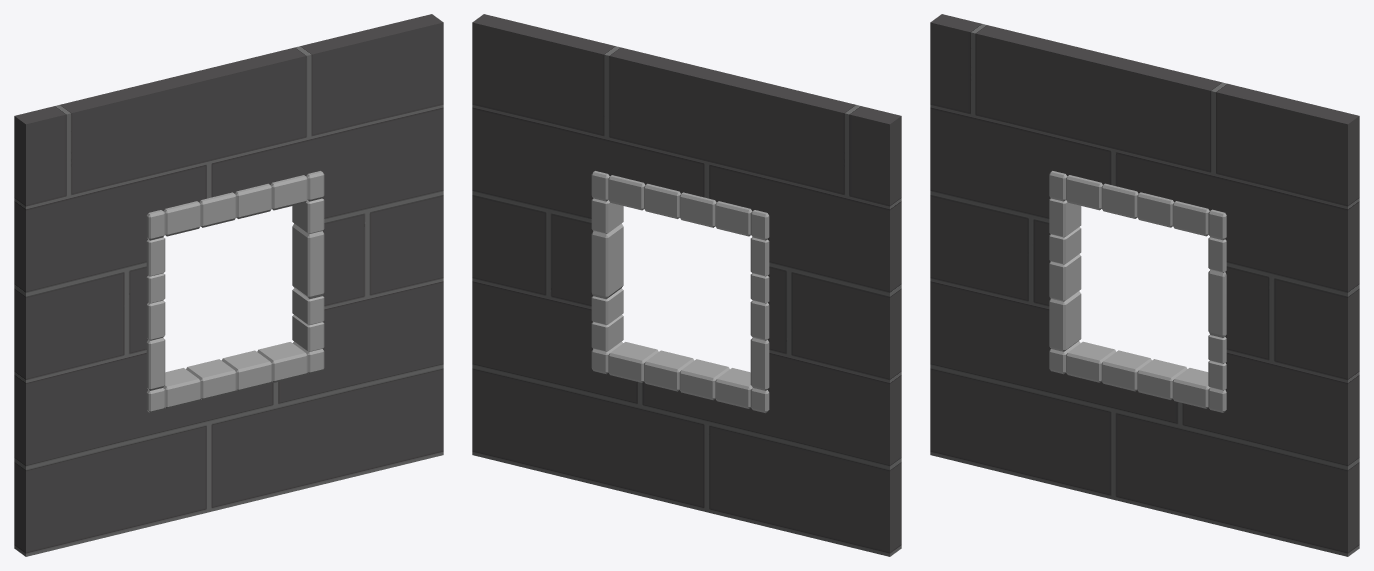
File: wallWindow.fbx
3 renders of one model, left to right at view 1: azimuth 30°, elevation 25°; view 2: azimuth 150°, elevation 25°; view 3: azimuth 330°, elevation 25°, orthographic.
Parts seen in each view (by area): view 1: geo_wallWindowStone; view 2: geo_wallWindowStone; view 3: geo_wallWindowStone.
Part boxes in pixels (left/top/right/bottom): geo_wallWindowStone: left=14, top=14, right=443, bottom=556; geo_wallWindowStone: left=472, top=14, right=901, bottom=556; geo_wallWindowStone: left=930, top=14, right=1359, bottom=556.
Size of the model in its own units: 908 by 898 by 63.68.
2 materials, 1 textured.
